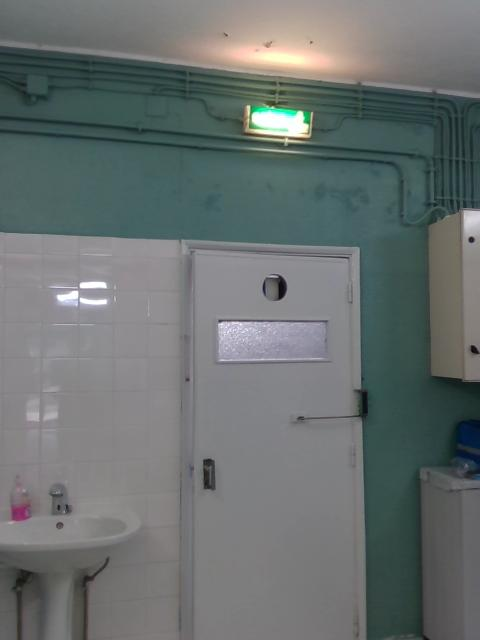door: (192, 248, 353, 640)
